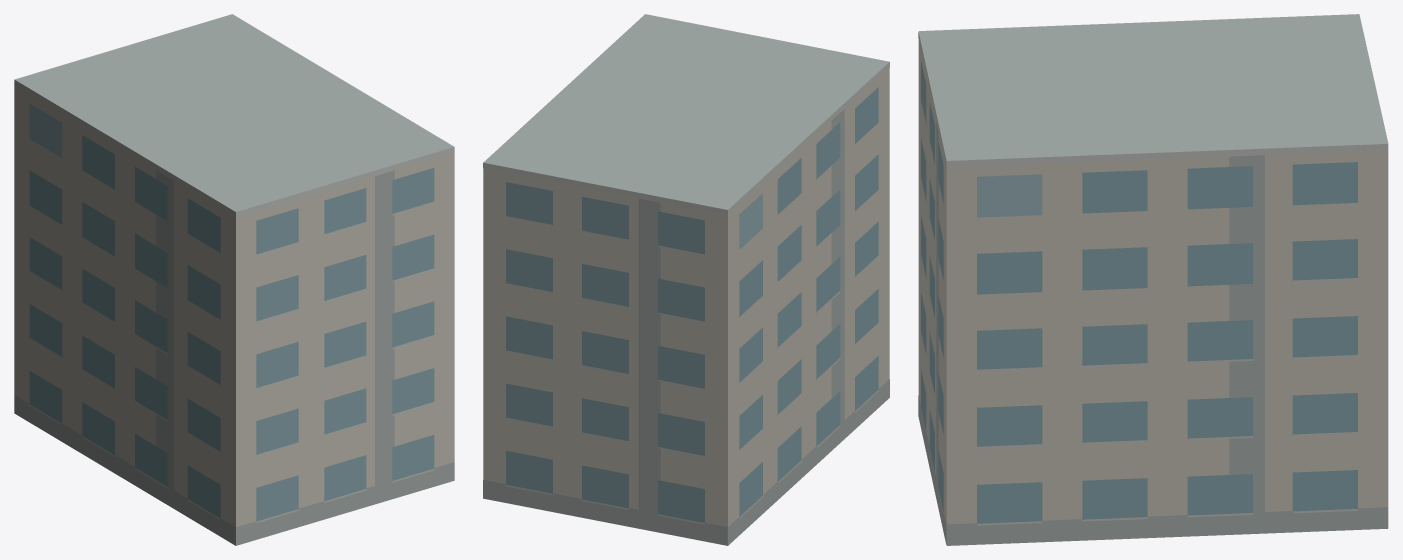
File: survey-upis-32884531.glb
3 renders of one model, left to right at view 1: azimuth 30°, elevation 25°; view 2: azimuth 150°, elevation 25°; view 3: azimuth 270°, elevation 25°, orthographic. The views are drawn at different scales.
Parts seen in each view (by area): view 1: survey-upis-32884531.tmp; view 2: survey-upis-32884531.tmp; view 3: survey-upis-32884531.tmp.
Part boxes in pixels (x1,y1,x2,y2): survey-upis-32884531.tmp: [14, 14, 454, 545]; survey-upis-32884531.tmp: [483, 14, 889, 545]; survey-upis-32884531.tmp: [918, 14, 1388, 545].
Size of the model in its own units: 11.64 by 14.2 by 15.72.
